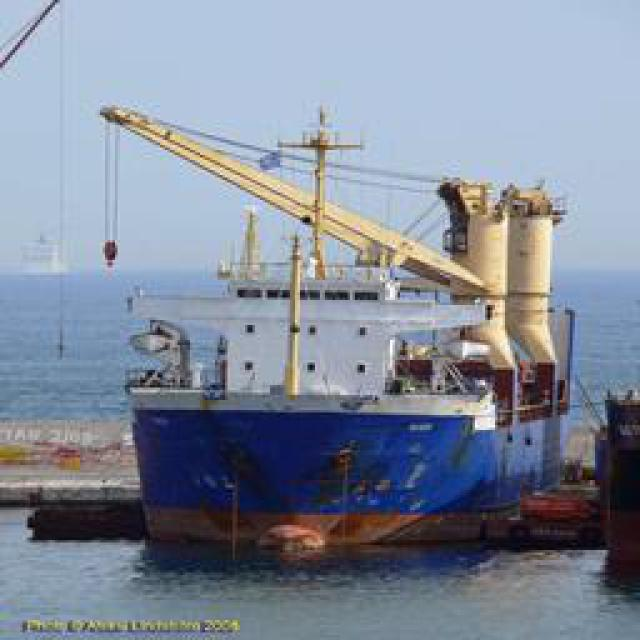Ship: (104, 95, 574, 555)
